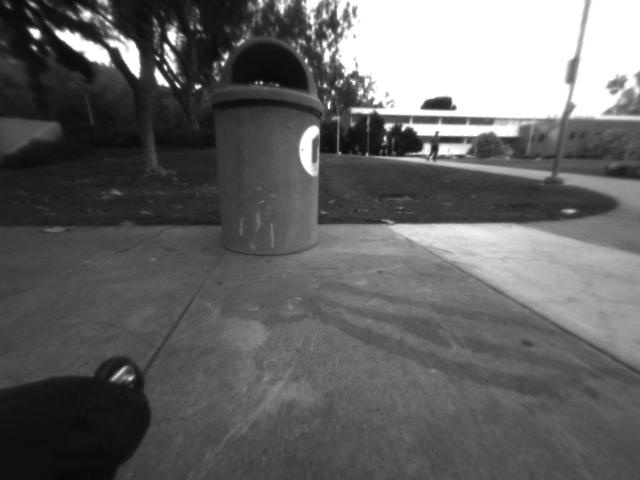trashcan: (202, 29, 335, 261)
